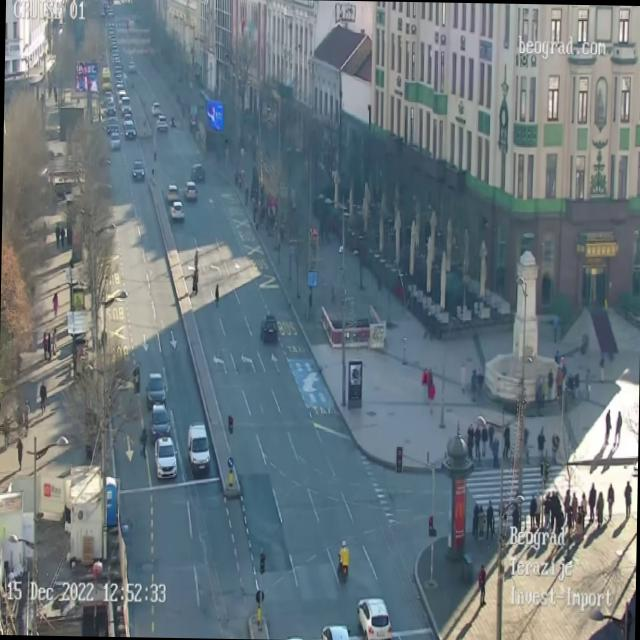car: (356, 596, 393, 640), (187, 420, 211, 472), (152, 438, 176, 476), (152, 400, 172, 436), (146, 372, 166, 406), (260, 313, 278, 341), (322, 622, 349, 640), (190, 162, 207, 184), (170, 201, 187, 222), (166, 182, 180, 205), (131, 160, 145, 183), (183, 182, 197, 204), (156, 114, 170, 132), (119, 95, 131, 116), (123, 118, 135, 137), (104, 118, 117, 134), (109, 130, 118, 148), (105, 100, 115, 115), (151, 102, 161, 116)
